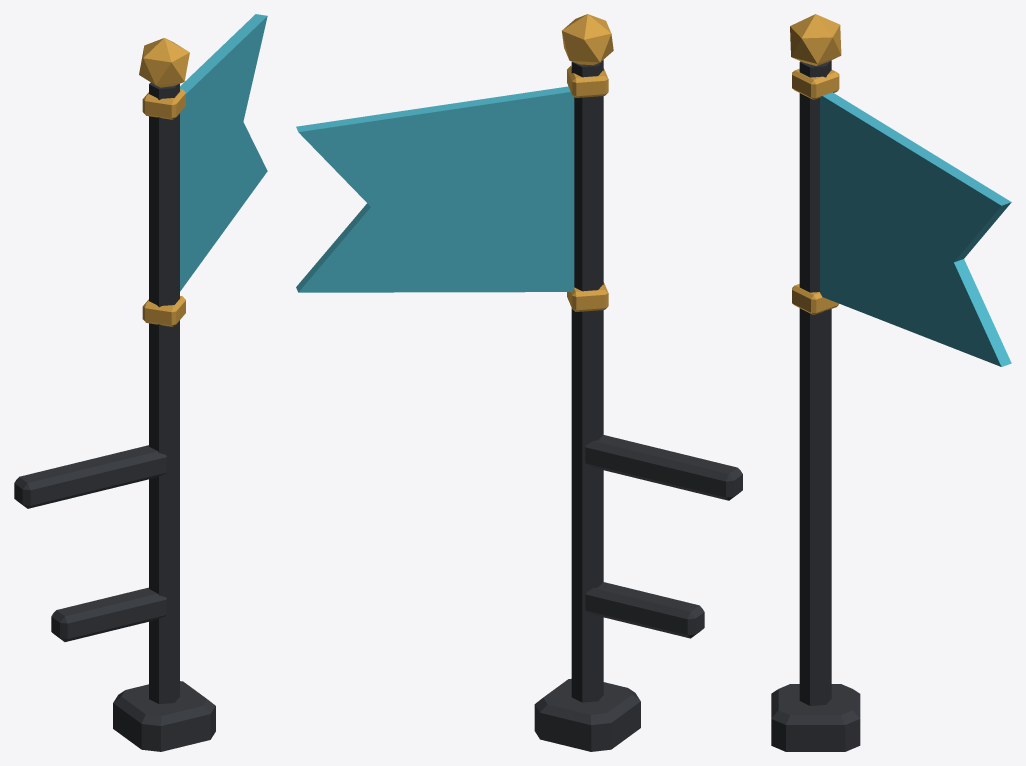
The model's file is TeslaKit7.obj.
3 views of the same model, side by side, from view 1: azimuth 30°, elevation 25°; view 2: azimuth 150°, elevation 25°; view 3: azimuth 270°, elevation 25° (orthographic). The views are drawn at different scales.
Parts seen in each view (by area): view 1: TeslaKit7; view 2: TeslaKit7; view 3: TeslaKit7.
Part boxes in pixels (x1,y1,x2,y2): TeslaKit7: (14, 14, 267, 751); TeslaKit7: (296, 14, 742, 751); TeslaKit7: (771, 14, 1011, 751).
Size of the model in its own units: 0.5478 by 1.07 by 0.3245.
